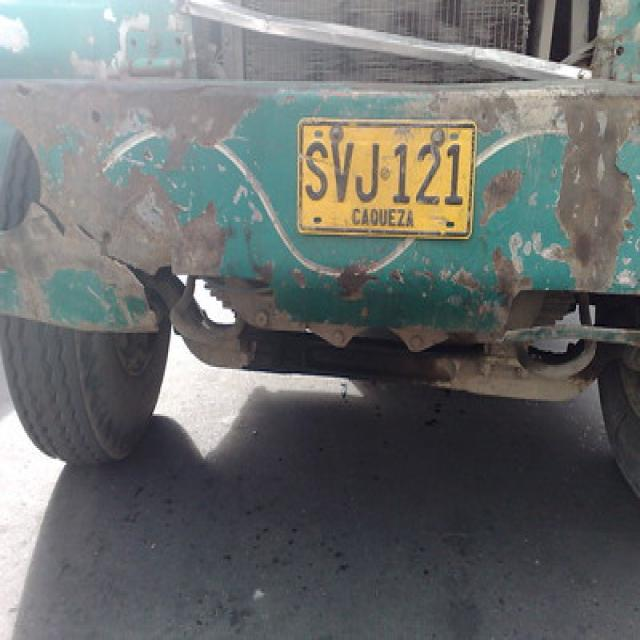placa_carro: (289, 107, 493, 250)
